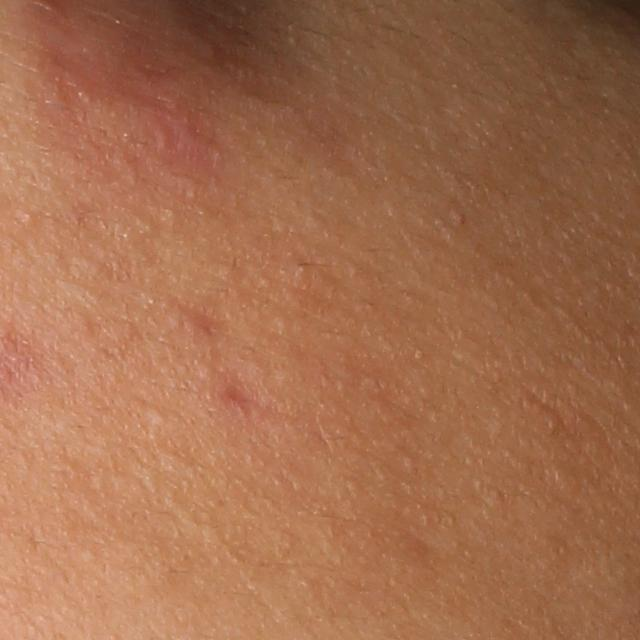comedo: (16, 205, 38, 230), (143, 402, 165, 427), (451, 210, 469, 229)
